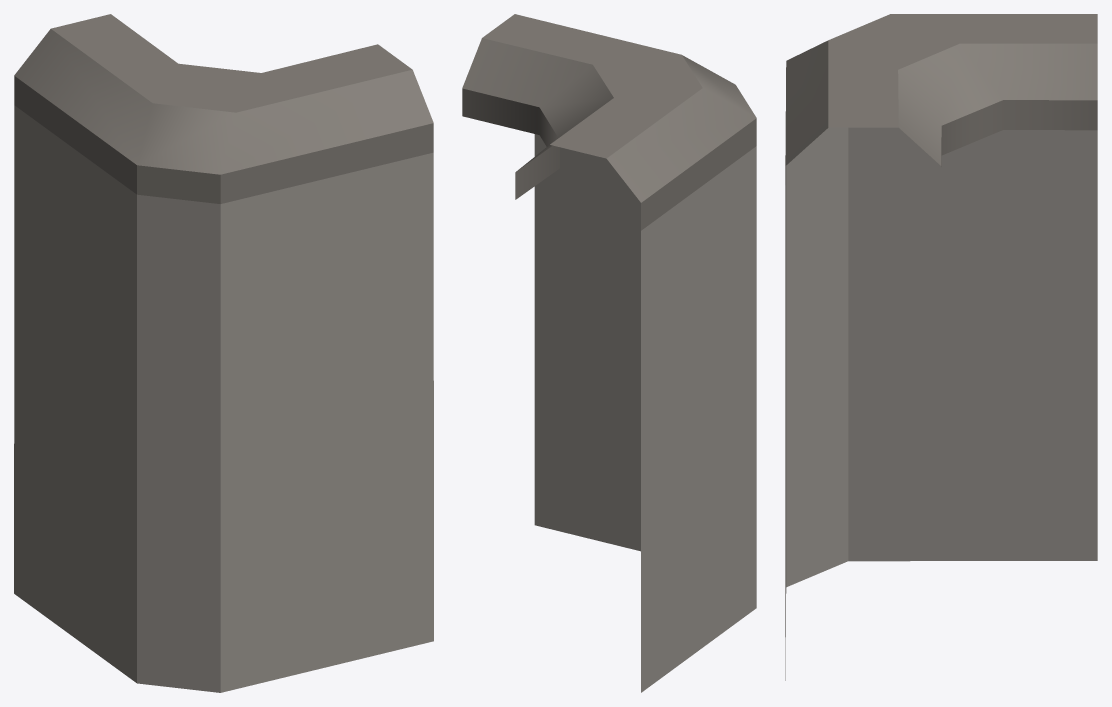
File: Base Wall Top 01 Corner.FBX
The picture shows the model from 3 angles, left to right: view 1: azimuth 30°, elevation 25°; view 2: azimuth 150°, elevation 25°; view 3: azimuth 270°, elevation 25°; orthographic projection. The views are drawn at different scales.
Visible parts, largest first — view 1: Base Wall Top 01 Corner; view 2: Base Wall Top 01 Corner; view 3: Base Wall Top 01 Corner.
Boxes of the visible parts, left/top/right/bottom form: Base Wall Top 01 Corner: left=14, top=14, right=433, bottom=692; Base Wall Top 01 Corner: left=462, top=14, right=756, bottom=692; Base Wall Top 01 Corner: left=785, top=14, right=1097, bottom=680.
Size of the model in its own units: 59.37 by 119 by 59.37.
Materials: 1 (1 with a texture image).
